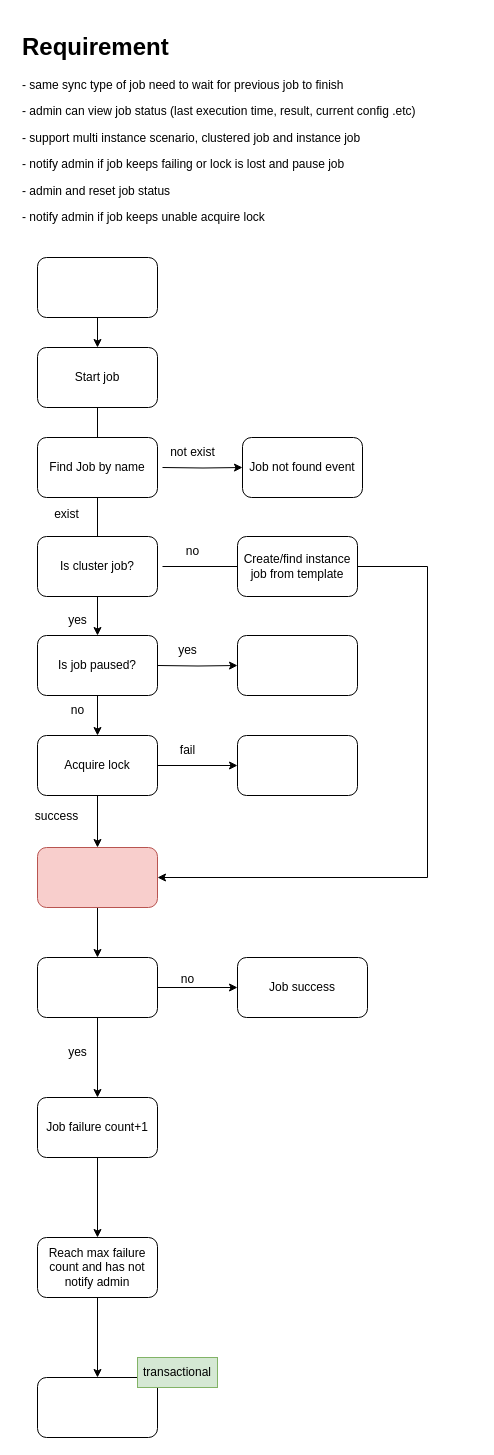
Image size: 494x1455. Some labels were removed from this diagram. Here are the shapes that lost their labels. From the top down, the centre of each, then its label:
At point (97, 287): "Springboot scheduler submit job to thread pool".
At point (297, 665): "Ignore current job".
At point (297, 765): "increase lock failure count".
At point (97, 877): "Do the work".
At point (97, 987): "Exception during job execution".
At point (97, 1407): "Update Job nofityAdmin & Notify Admin Event".
